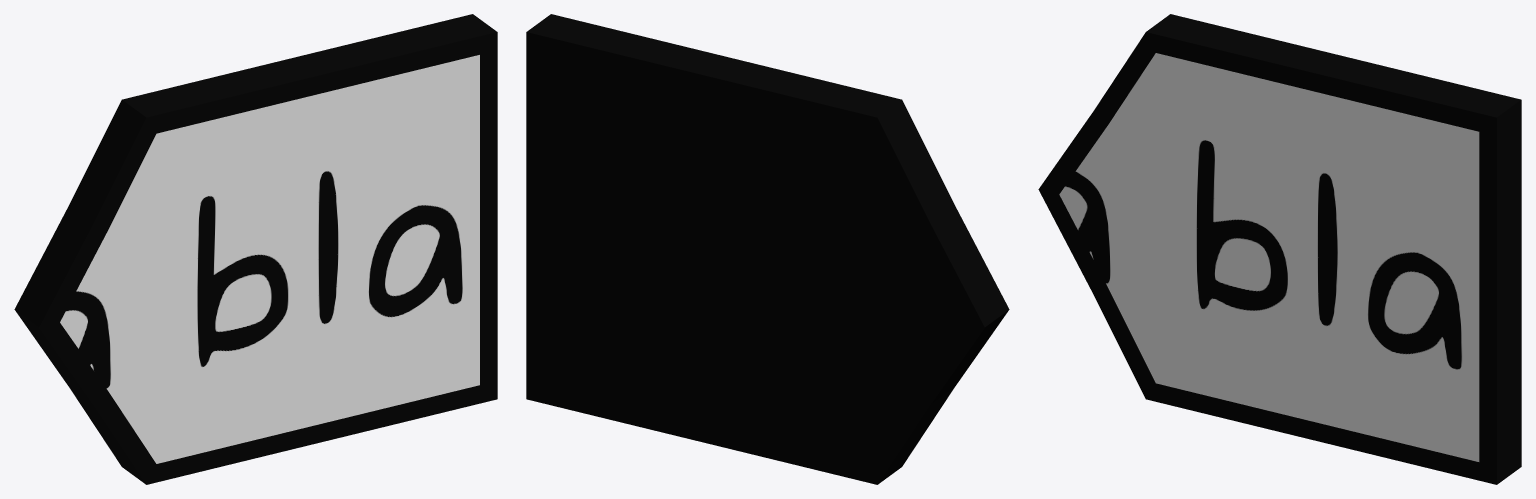
Rendered from mdl_poland_poempieces_16.gltf.
The picture shows the model from 3 angles, left to right: view 1: azimuth 30°, elevation 25°; view 2: azimuth 150°, elevation 25°; view 3: azimuth 330°, elevation 25°; orthographic projection.
Visible parts, largest first — view 1: Plane.018; view 2: Plane.018; view 3: Plane.018.
Part boxes in pixels (x1=…): Plane.018: x1=14, y1=14, x2=497, y2=484; Plane.018: x1=526, y1=14, x2=1009, y2=484; Plane.018: x1=1038, y1=14, x2=1521, y2=484.
Bounding box in the file's own units: 0.3265 × 0.25 × 0.0304.
Materials: 2 (2 with a texture image).
